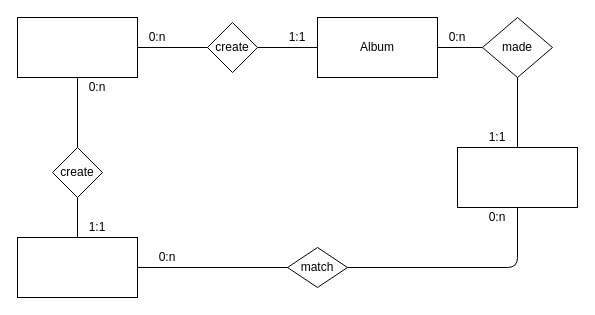
Some shapes in this 595 by 315 pixel diagram are drawn without their labels. Here are the shapes that lost their labels. From the top down, the centre of each, then its label:
At [77,47]: "User".
At [517,177]: "Song".
At [77,267]: "Playlist".
